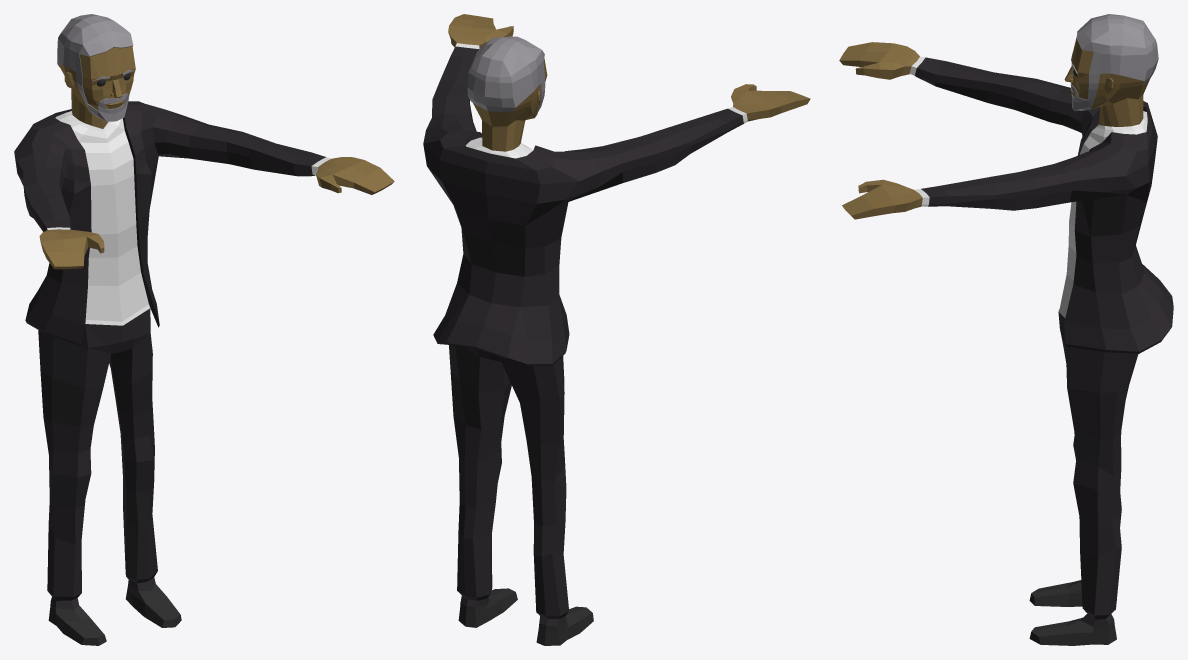
The model's file is Male_Suit_TPose_v2.fbx.
3 renders of one model, left to right at view 1: azimuth 30°, elevation 25°; view 2: azimuth 150°, elevation 25°; view 3: azimuth 270°, elevation 25°, orthographic. The views are drawn at different scales.
Parts seen in each view (by area): view 1: Export_TPose; view 2: Export_TPose; view 3: Export_TPose.
Boxes of the visible parts, bbox=[...] form: Export_TPose: bbox=[14, 14, 394, 645]; Export_TPose: bbox=[423, 14, 810, 645]; Export_TPose: bbox=[839, 14, 1173, 645].
Bounding box in the file's own units: 2.94 × 4.84 × 2.44.
